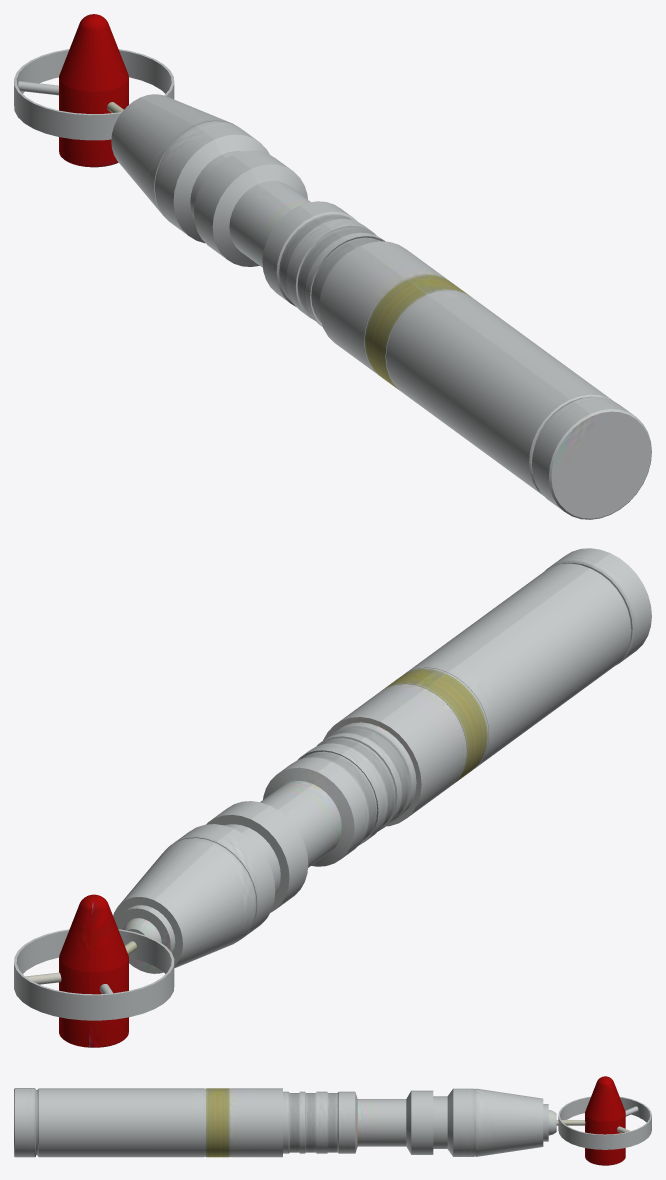
3 views of the same model, one above another, from view 1: azimuth 30°, elevation 25°; view 2: azimuth 150°, elevation 25°; view 3: azimuth 270°, elevation 25° (orthographic). The views are drawn at different scales.
Visible parts, largest first — view 1: Body1; view 2: Body1; view 3: Body1.
Boxes of the visible parts, x1,y1,x2,y2 form: Body1: (14,14,651,519); Body1: (14,548,651,1047); Body1: (14,1076,651,1165).
Size of the model in its own units: 0.025 by 0.0235 by 0.17.
Materials: 1 (1 with a texture image).
